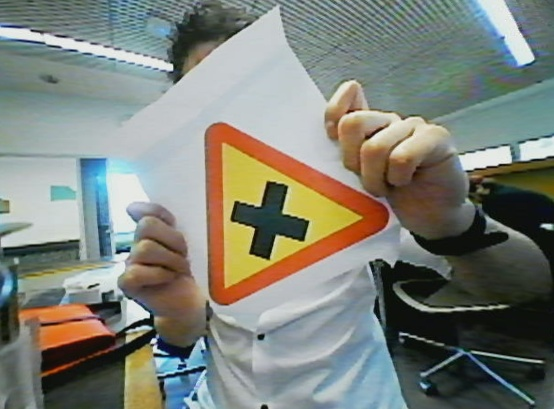junction: (201, 120, 390, 287)
